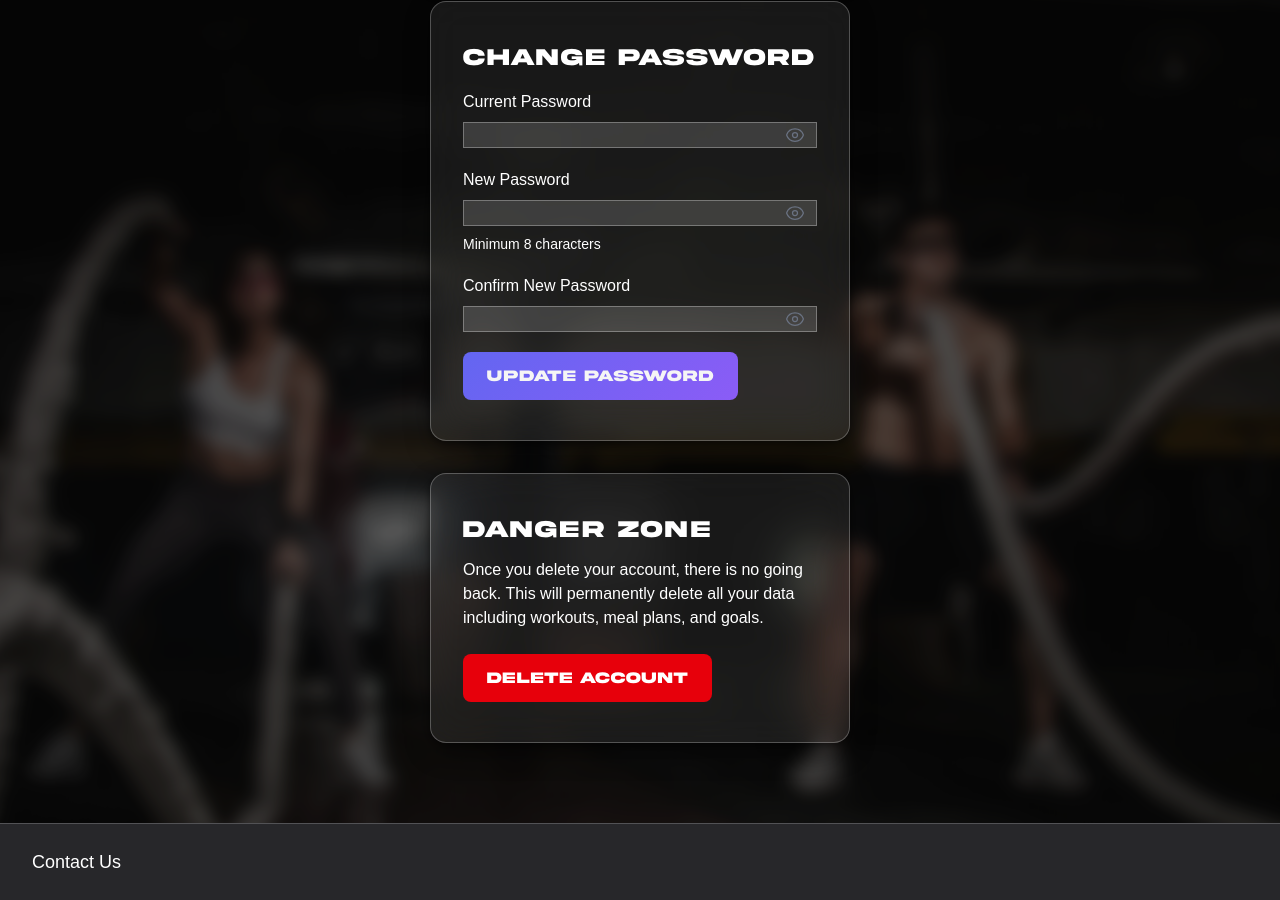
it: Settings Page › closes delete modal when cancel is clicked
(page scrolled)
Open modal
Click the button "Delete Account".
click(587, 678)  # box [463,654,712,702]
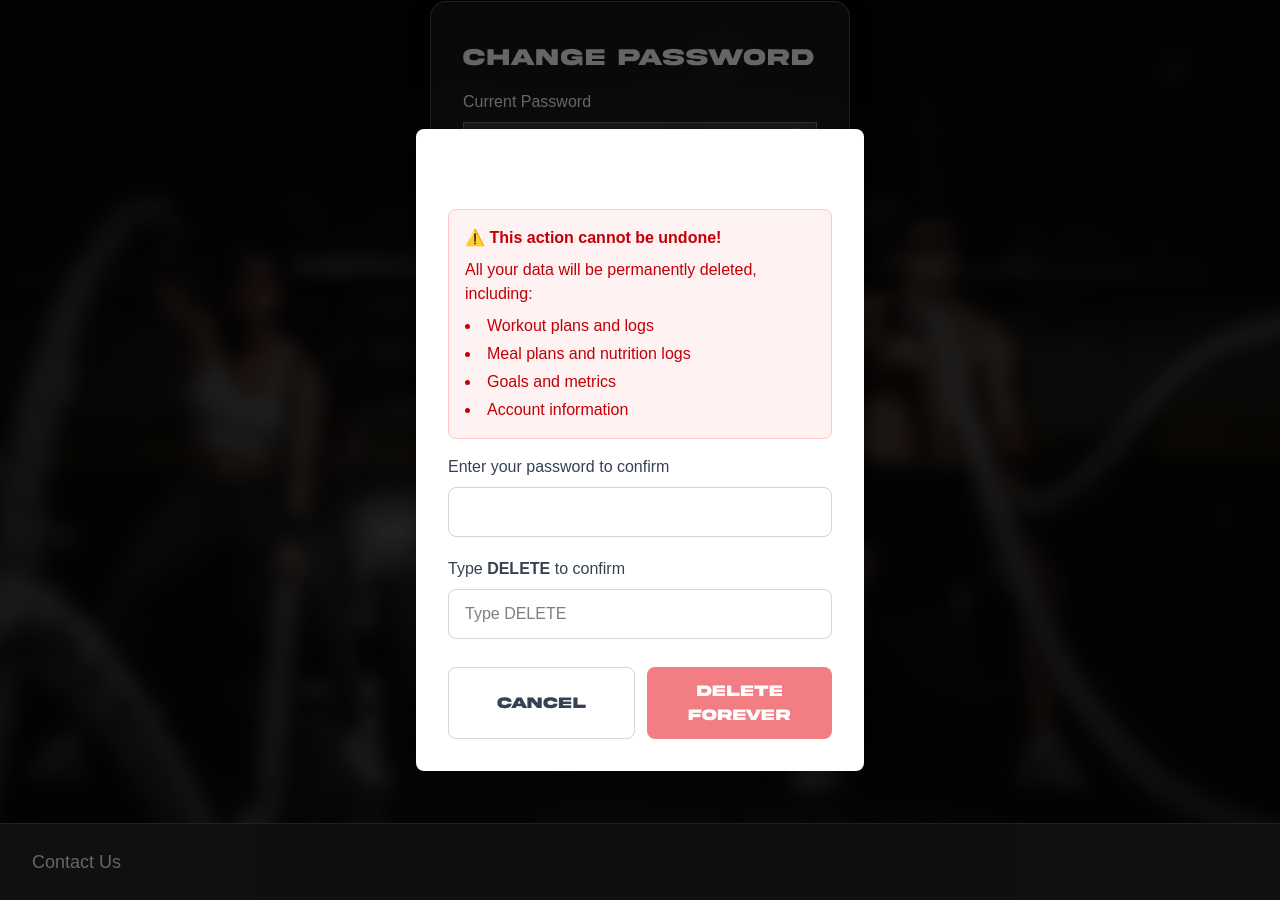
Close modal
Click the button "Cancel".
click(542, 703)  # box [448,667,635,739]
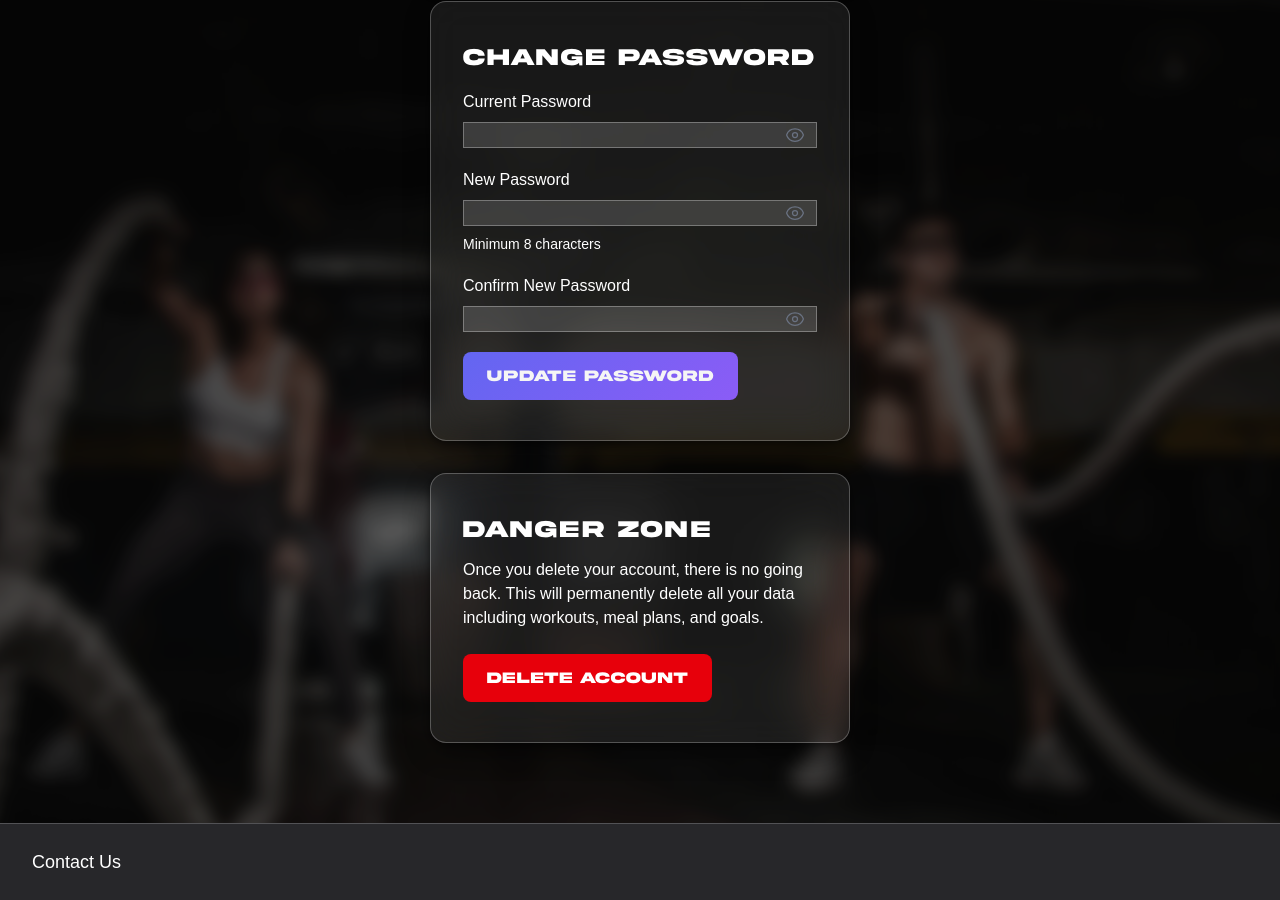
Now the text "This action cannot be undone!" is gone
